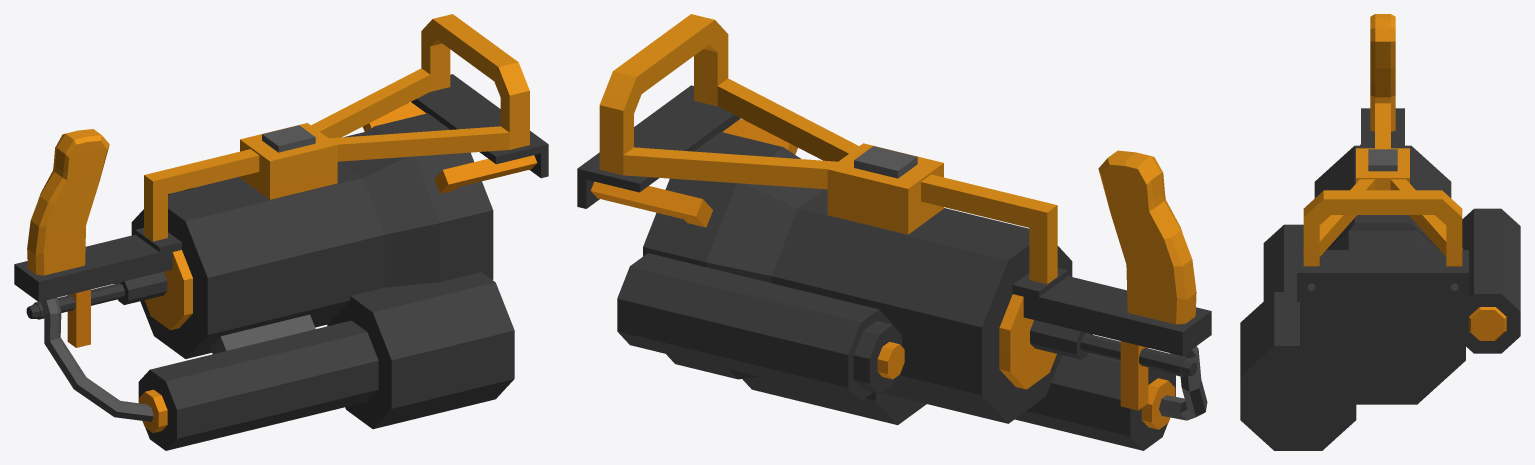
File: LMG1_05.fbx
3 renders of one model, left to right at view 1: azimuth 30°, elevation 25°; view 2: azimuth 150°, elevation 25°; view 3: azimuth 270°, elevation 25°, orthographic. The views are drawn at different scales.
Visible parts, largest first — view 1: LMG1_05; view 2: LMG1_05; view 3: LMG1_05.
Boxes of the visible parts, x1=… form: LMG1_05: x1=14, y1=14, x2=548, y2=450; LMG1_05: x1=577, y1=14, x2=1211, y2=450; LMG1_05: x1=1240, y1=14, x2=1520, y2=450.
Bounding box in the file's own units: 0.6461 × 0.3998 × 0.3673.
